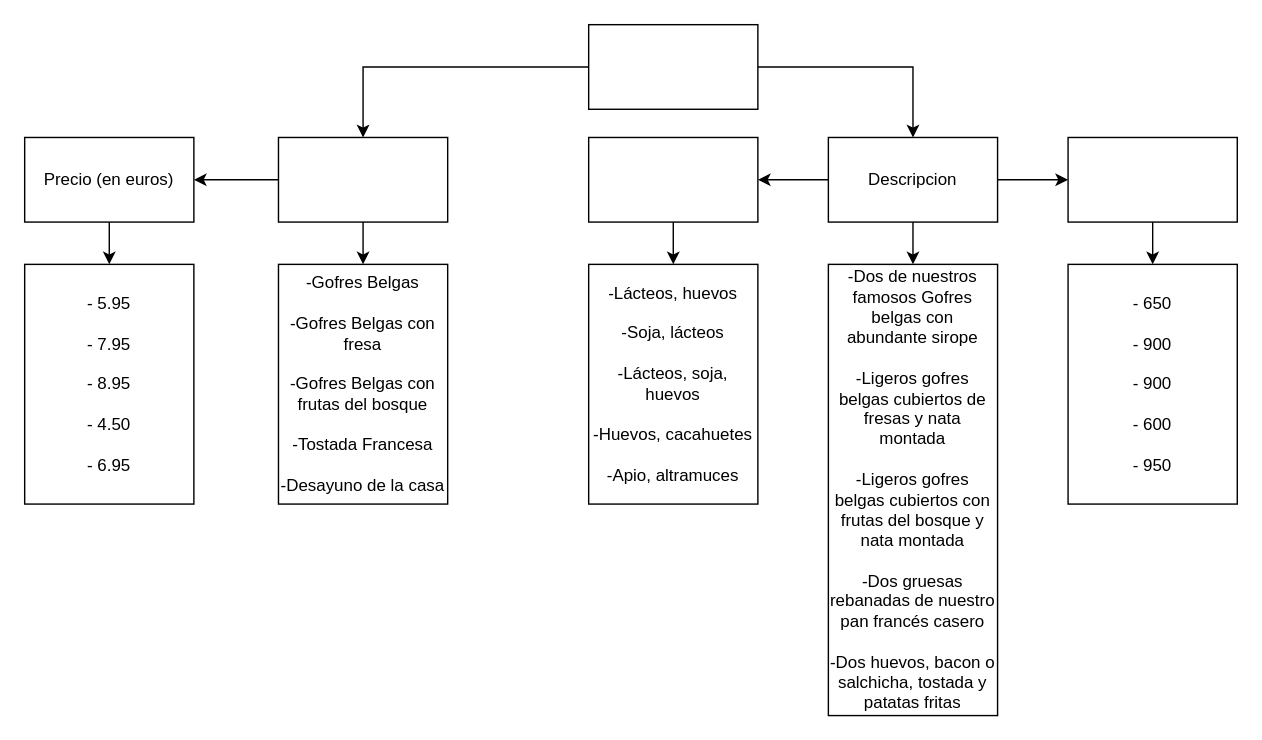
The diagram is 1262 pixels wide and 740 high, and some of its shapes have lost their labels. Here are the shapes that lost their labels. From the top down, the centre of each, then its label:
At [672,66]: "Carta".
At [362,179]: "Nombre".
At [672,179]: "Alérgenos".
At [1152,179]: "Calorías".
